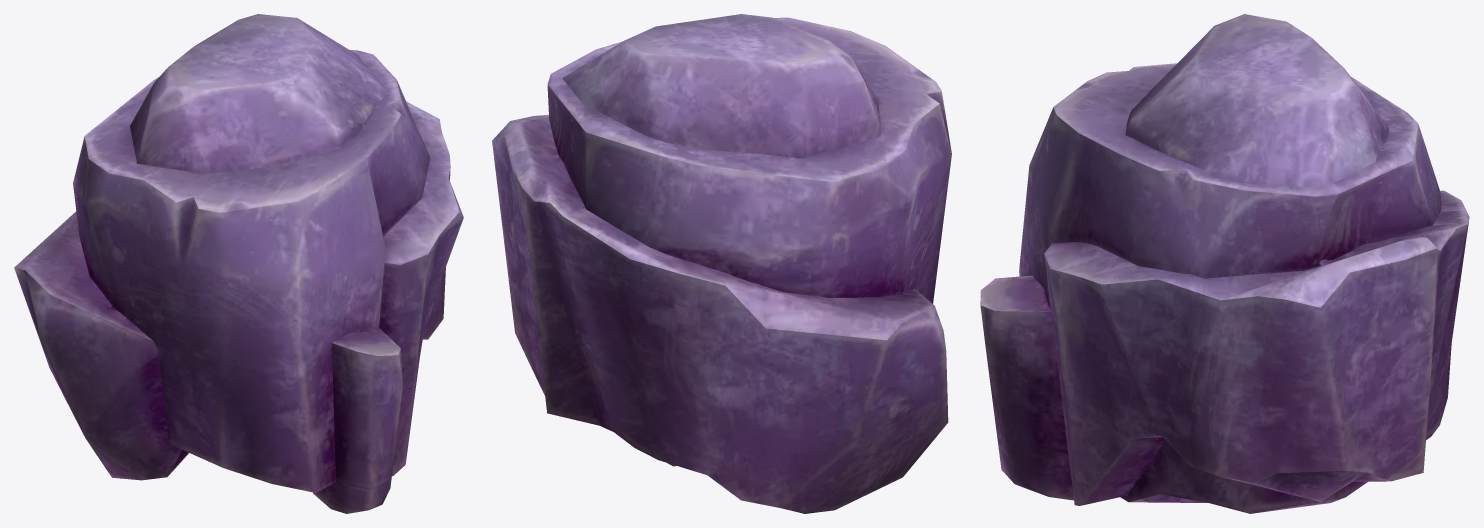
The picture shows the model from 3 angles, left to right: view 1: azimuth 30°, elevation 25°; view 2: azimuth 150°, elevation 25°; view 3: azimuth 270°, elevation 25°; orthographic projection. The views are drawn at different scales.
Parts seen in each view (by area): view 1: SM_Mithril_Ore_Medium_01_LOD0; view 2: SM_Mithril_Ore_Medium_01_LOD0; view 3: SM_Mithril_Ore_Medium_01_LOD0.
Part boxes in pixels (x1,y1,x2,y2): SM_Mithril_Ore_Medium_01_LOD0: (14, 14, 463, 513); SM_Mithril_Ore_Medium_01_LOD0: (492, 14, 951, 513); SM_Mithril_Ore_Medium_01_LOD0: (980, 14, 1469, 513).
Size of the model in its own units: 0.357 by 0.3312 by 0.3365.
Materials: 1 (1 with a texture image).
